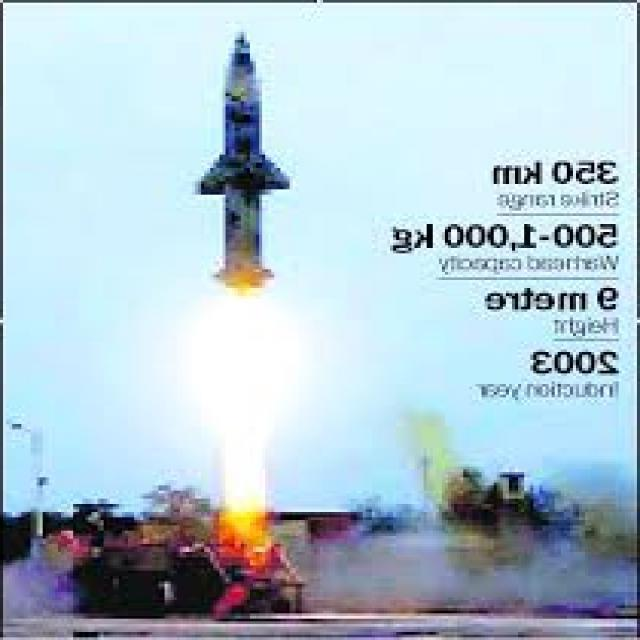missile: (201, 25, 292, 297), (216, 17, 268, 286)
